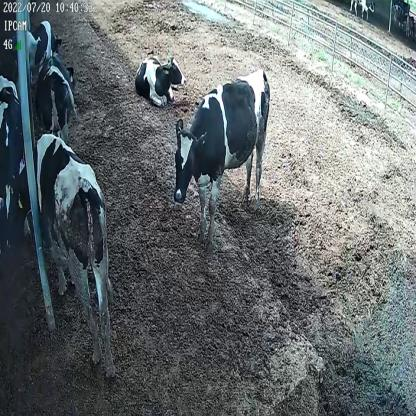cow: (7, 137, 116, 380), (172, 65, 272, 247), (33, 56, 76, 137), (132, 52, 188, 110)
